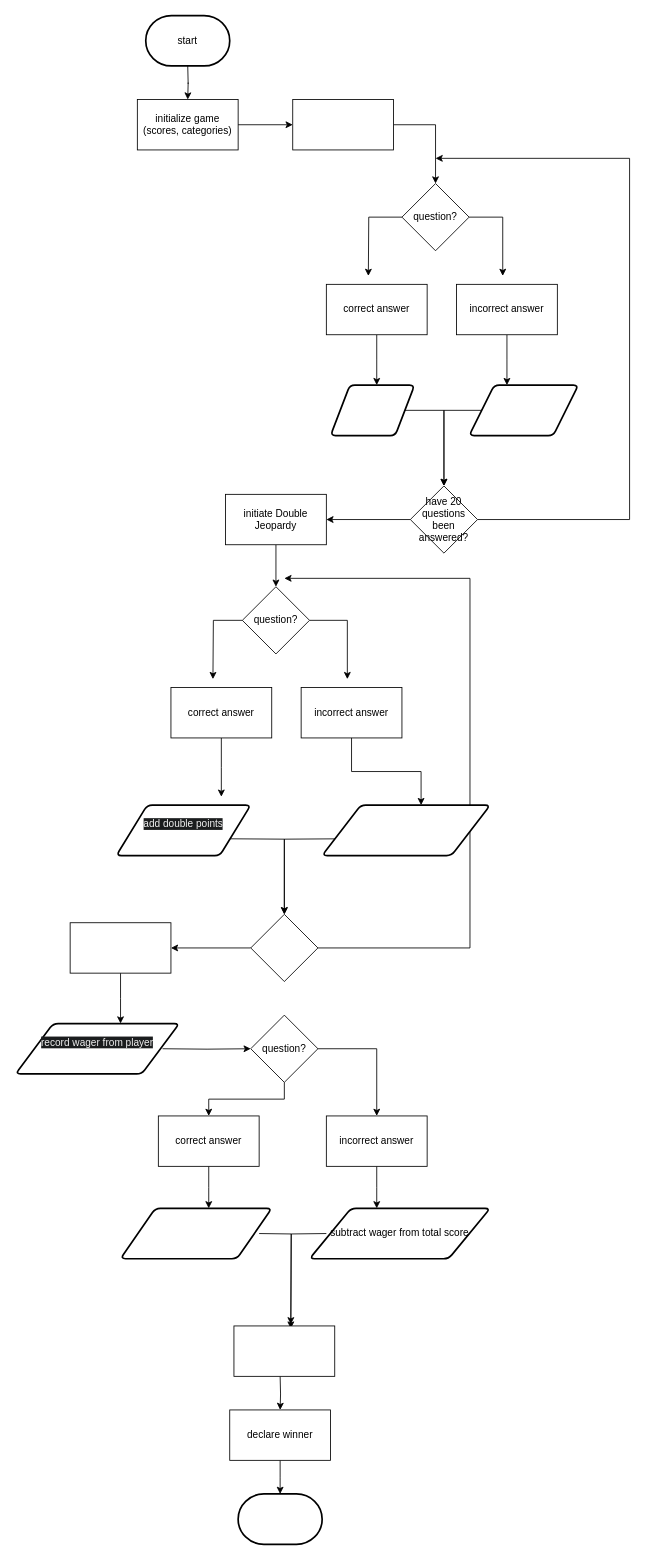
Some shapes in this 651 by 1559 pixel diagram are drawn without their labels. Here are the shapes that lost their labels. From the top down, the box of each, then its label:
(292, 99, 394, 150): initiate round 1
(329, 384, 415, 436): add points
(468, 384, 579, 436): subtract points
(321, 804, 491, 856): subtract double points
(69, 922, 171, 973): initialize Final Jeopardy
(250, 914, 318, 982): have the remaining five questions been answered?
(119, 1207, 272, 1259): add wager to total score
(233, 1325, 335, 1376): total all player score
(237, 1493, 323, 1545): stop
